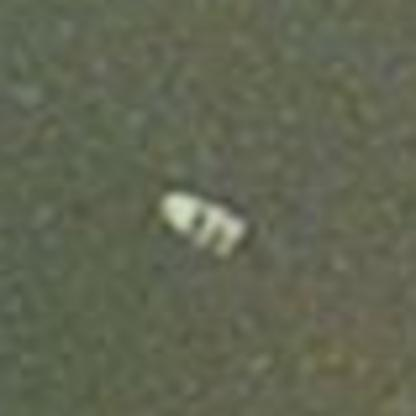ship: (143, 175, 263, 265)
